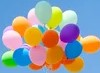Balloon: (60, 24, 80, 43), (2, 30, 21, 48), (36, 1, 51, 23), (24, 27, 41, 46), (65, 41, 82, 59), (81, 36, 100, 52), (30, 46, 46, 65), (42, 30, 59, 47), (46, 47, 63, 63), (14, 49, 30, 65)
